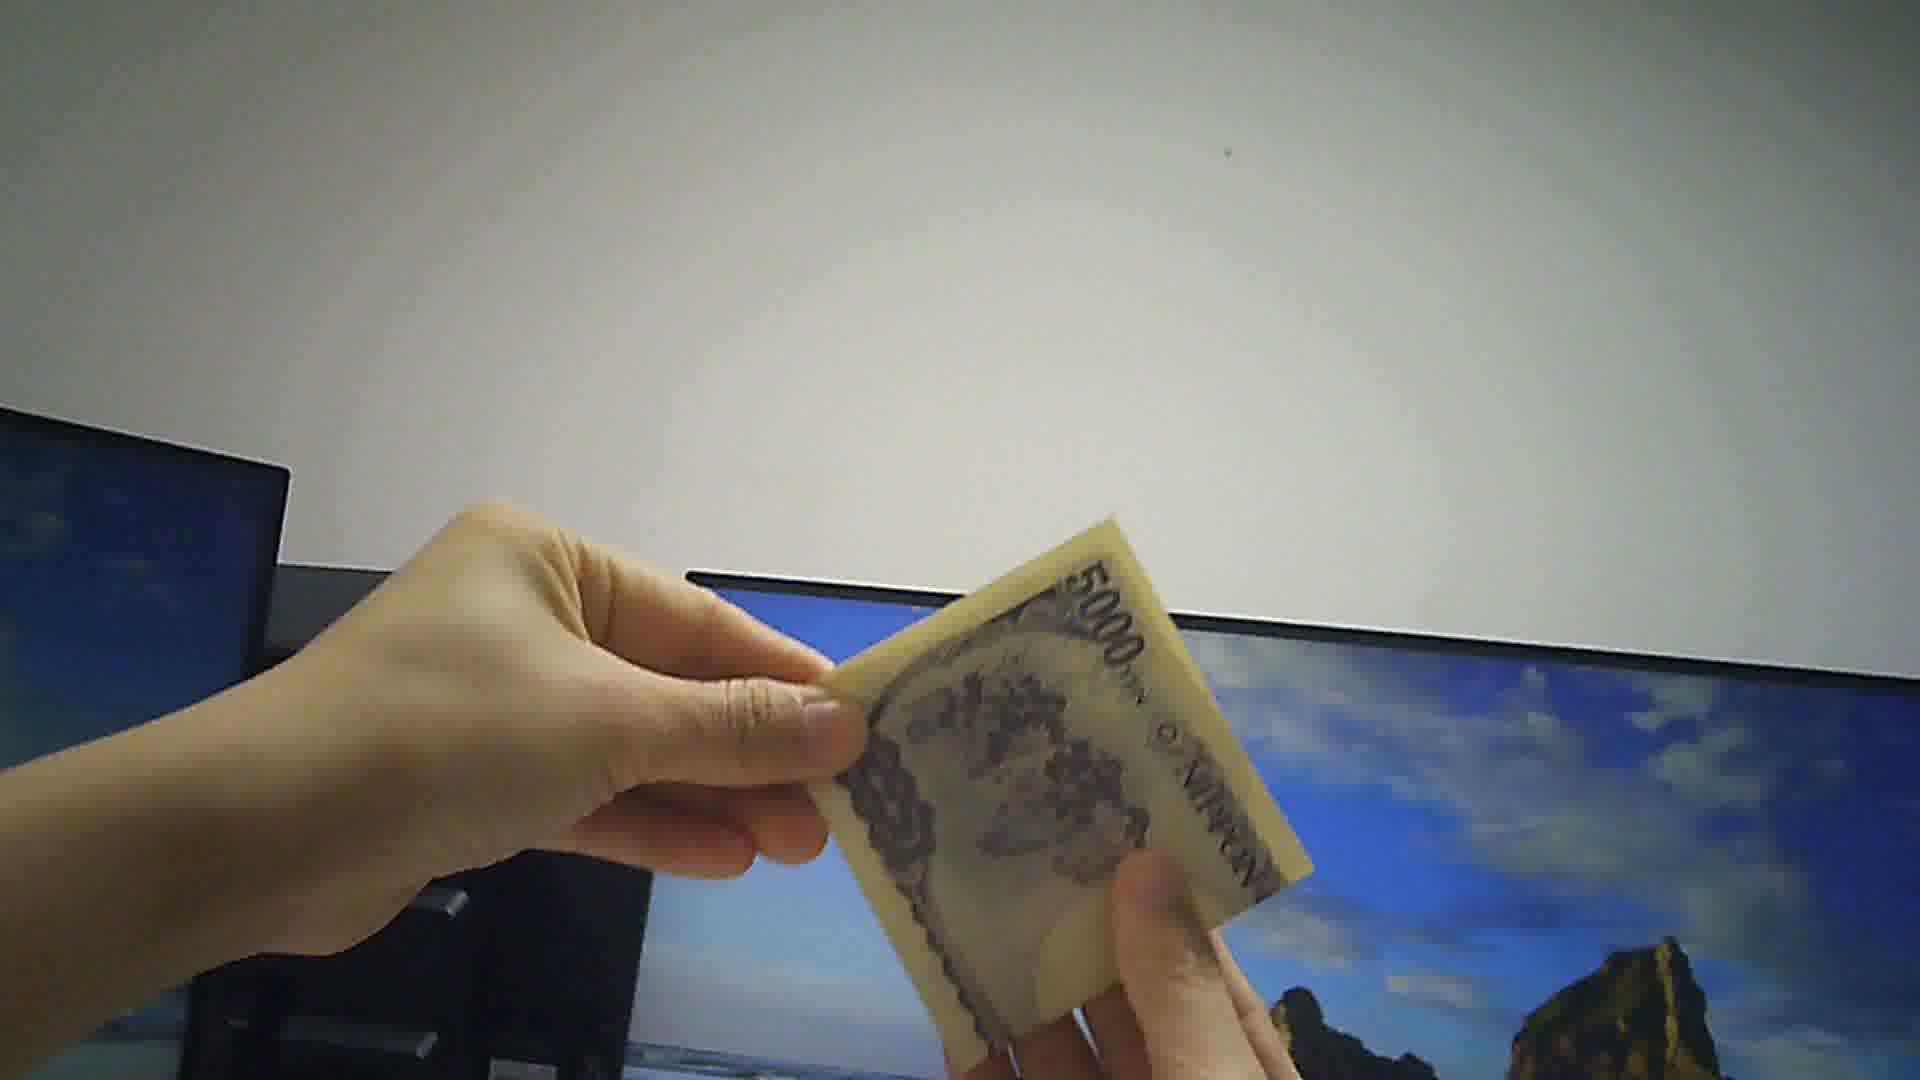5,000 Yen: (790, 522, 1313, 1040)
